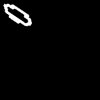chain: (4, 4, 31, 25)
